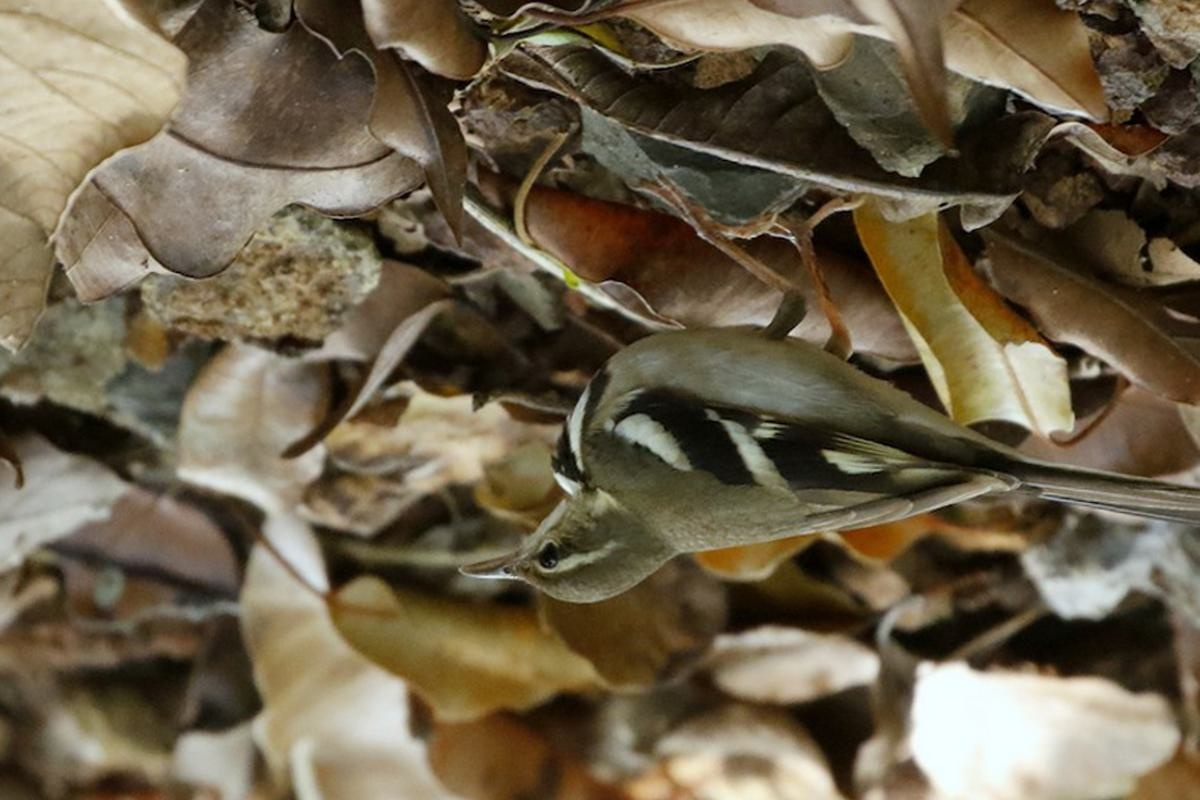wagtail: (477, 324, 1063, 621)
